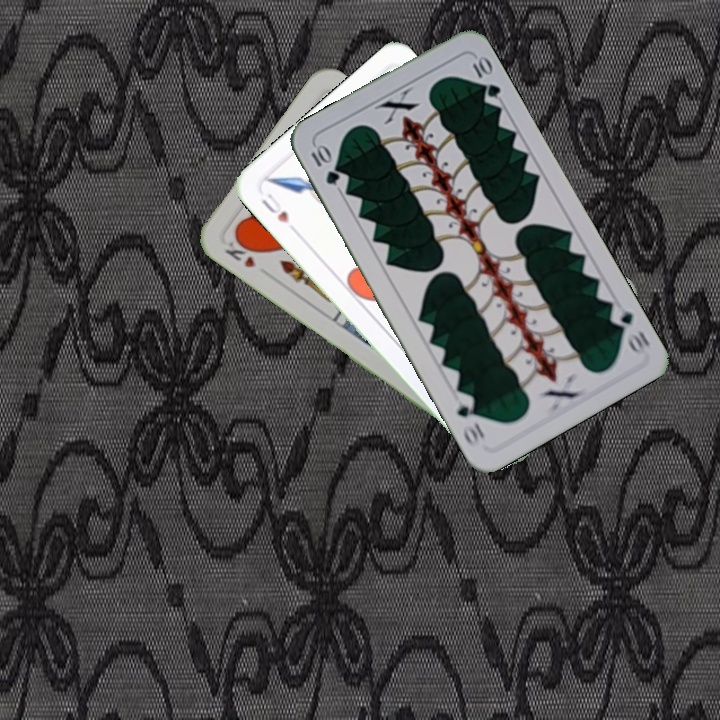G10: (605, 301, 653, 359), (306, 140, 343, 188)
HK: (220, 231, 260, 271)
HU: (256, 189, 292, 226)
